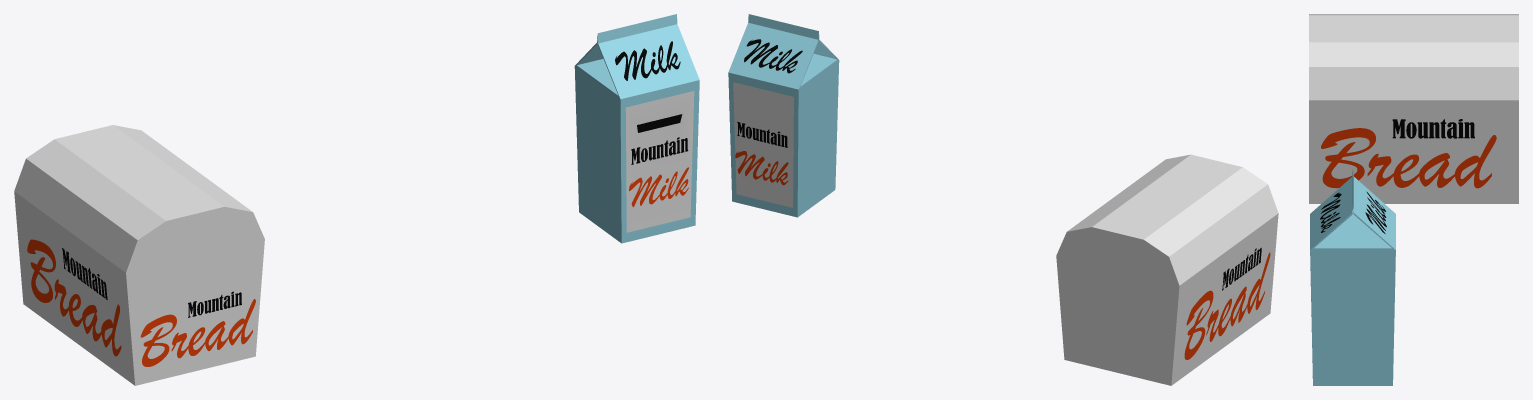
File: New Bread and milk.fbx
3 views of the same model, side by side, from view 1: azimuth 30°, elevation 25°; view 2: azimuth 150°, elevation 25°; view 3: azimuth 270°, elevation 25° (orthographic). The views are drawn at different scales.
Visible parts, largest first — view 1: Cube, Text.010; view 2: Cube, Text.010; view 3: Cube, Text.010.
Boxes of the visible parts, x1,y1,x2,y2 form: Cube: [14, 125, 264, 385]; Text.010: [574, 14, 699, 243]; Cube: [1056, 154, 1278, 385]; Text.010: [728, 14, 839, 217]; Cube: [1309, 14, 1518, 203]; Text.010: [1310, 169, 1395, 385].
Bounding box in the file's own units: 137 × 49.22 × 46.39.
